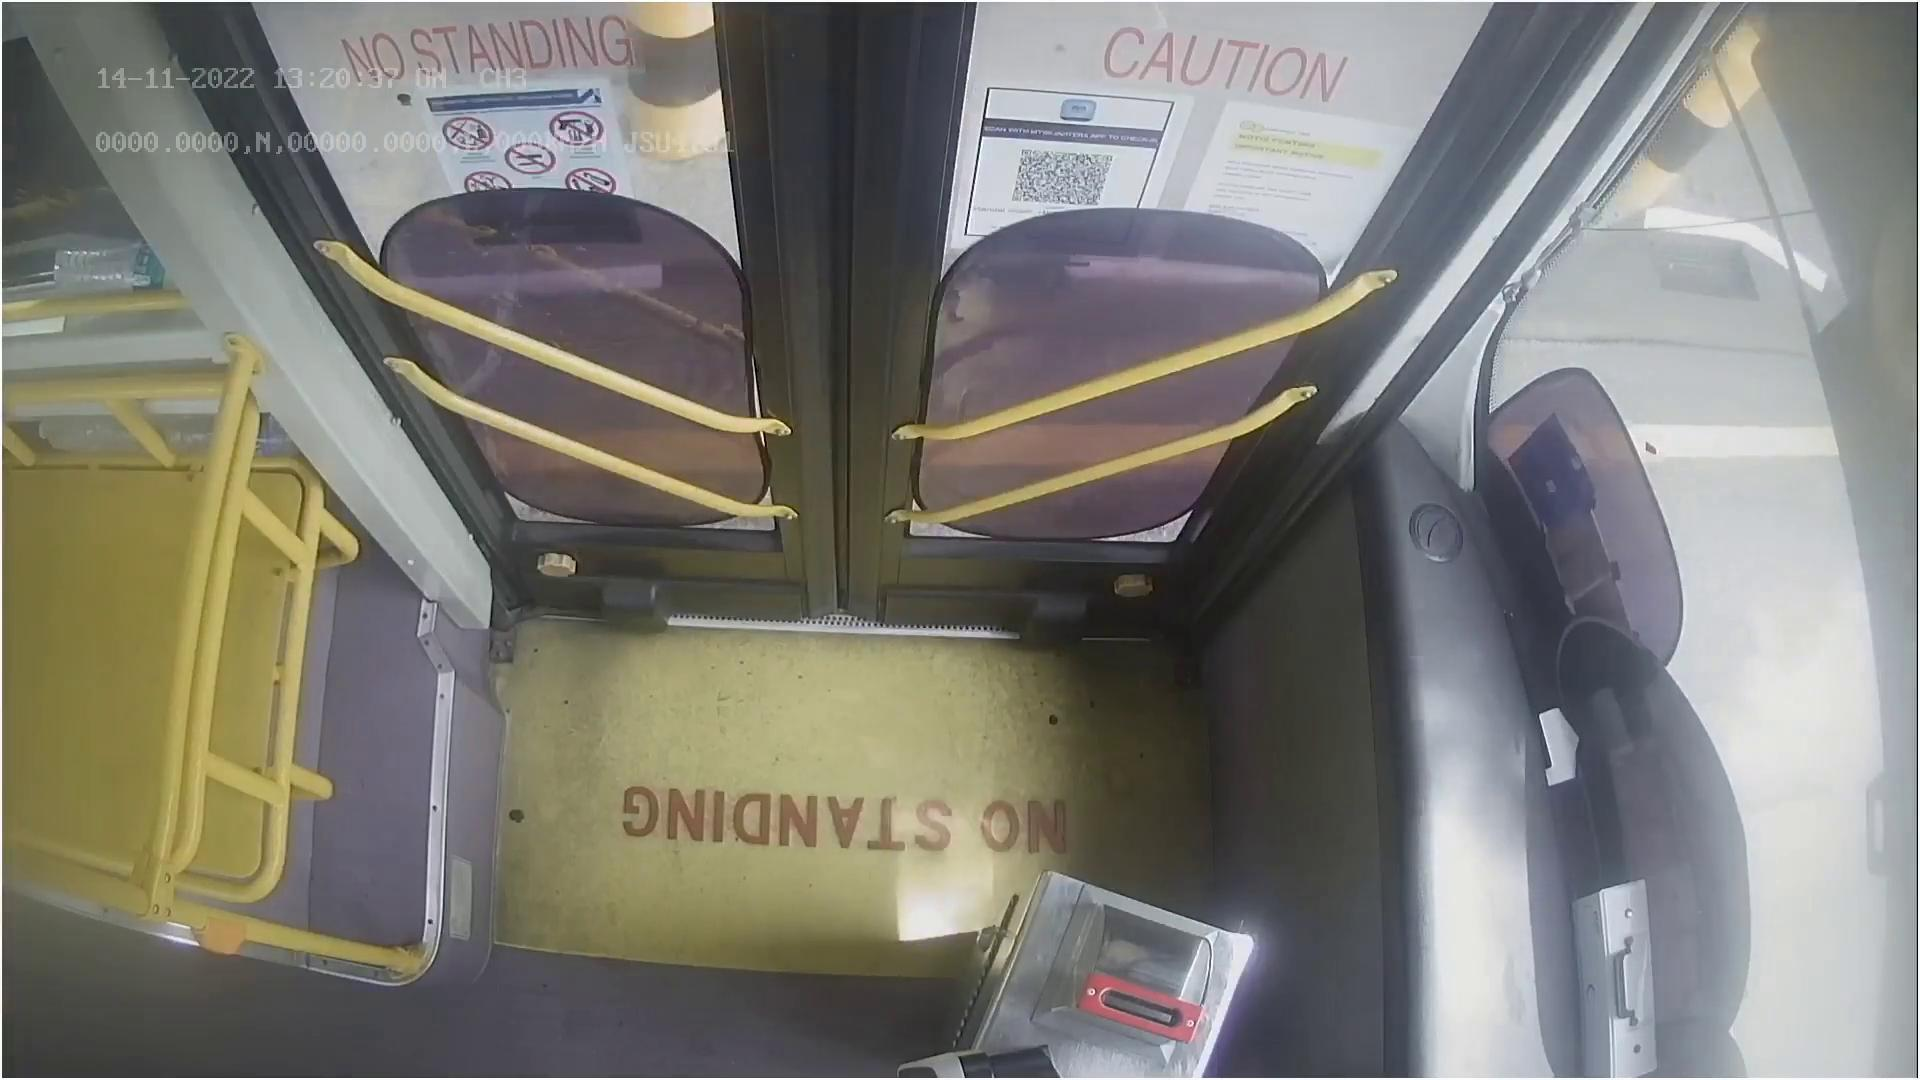close: (293, 0, 1439, 156)
